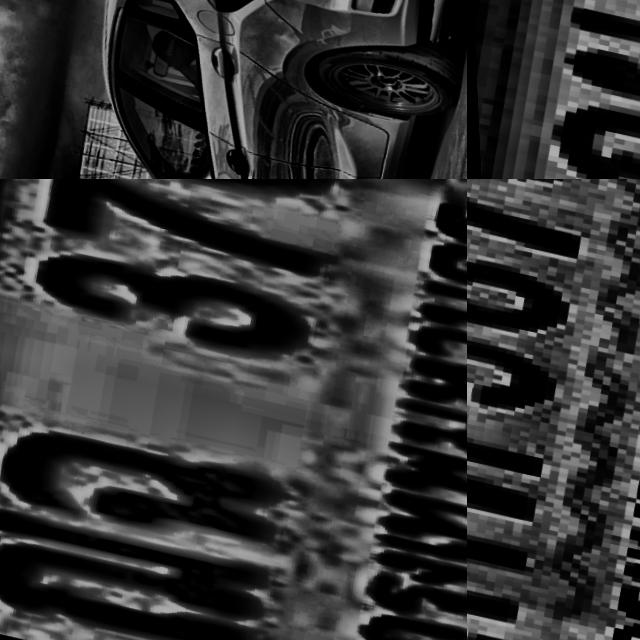license-plate: (0, 179, 467, 640), (467, 179, 640, 640), (467, 0, 640, 179)
